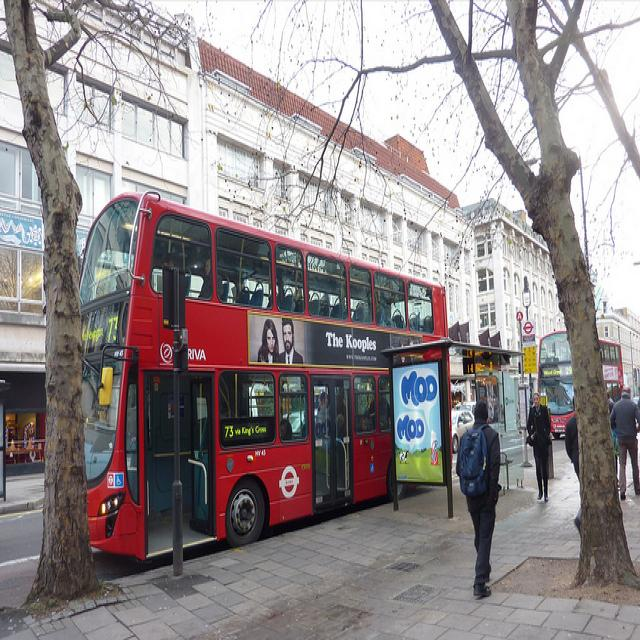Vehicle: (76, 184, 446, 560), (536, 329, 624, 439), (452, 408, 476, 454)
